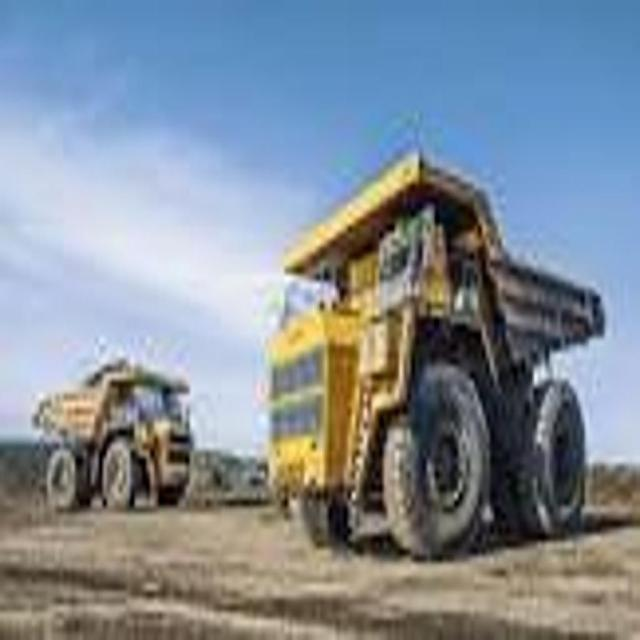dump_truck: (264, 146, 605, 560), (30, 344, 194, 522)
